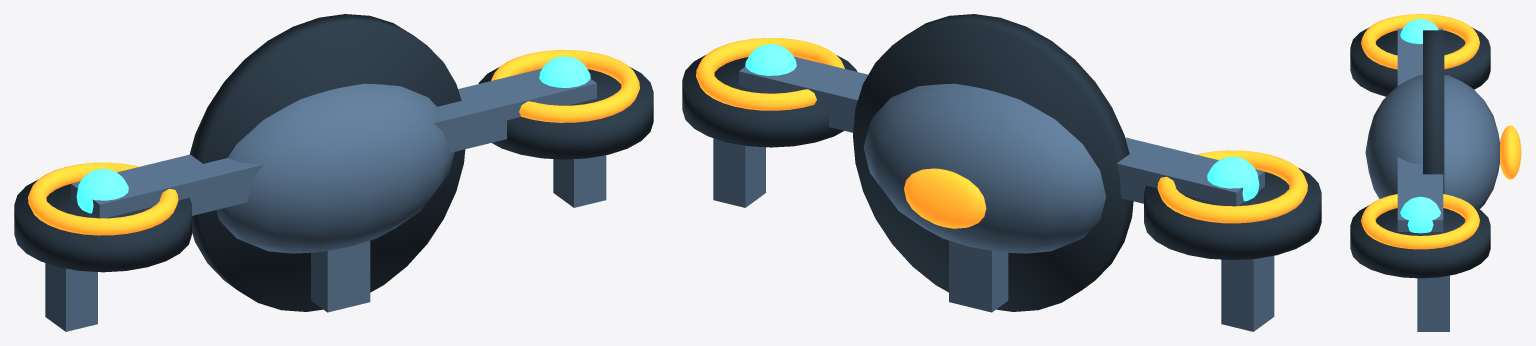
File: hazard_drone.glb
3 views of the same model, side by side, from view 1: azimuth 30°, elevation 25°; view 2: azimuth 150°, elevation 25°; view 3: azimuth 270°, elevation 25° (orthographic). The views are drawn at different scales.
Visible parts, largest first — view 1: optical main housing, equatorial cage, rotor enclosure-1, rotor enclosure1, wing spine-1, wing spine1, rotor neon ring1, rotor neon ring-1, bottom stabilizer, wing tip fins-1, wing tip fins1, rotor core-1 (+1 smaller); view 2: equatorial cage, optical main housing, rotor enclosure-1, rotor enclosure1, wing spine-1, rotor neon ring1, rotor neon ring-1, wing spine1, threat-red-eye, wing tip fins-1, bottom stabilizer, wing tip fins1 (+2 smaller); view 3: optical main housing, rotor enclosure1, rotor enclosure-1, equatorial cage, rotor neon ring1, rotor neon ring-1, wing spine1, wing tip fins1, rotor core1, wing spine-1, threat-red-eye, rotor core-1.
Part boxes in pixels (<box>): optical main housing: <box>216,83,454,253</box>; equatorial cage: <box>189,14,465,311</box>; rotor enclosure-1: <box>14,180,191,272</box>; rotor enclosure1: <box>478,66,653,159</box>; wing spine-1: <box>71,154,263,218</box>; wing spine1: <box>433,68,596,152</box>; rotor neon ring1: <box>491,50,639,122</box>; rotor neon ring-1: <box>28,162,178,235</box>; bottom stabilizer: <box>311,240,370,312</box>; wing tip fins-1: <box>45,263,97,331</box>; wing tip fins1: <box>553,155,606,207</box>; rotor core-1: <box>76,168,128,213</box>; equatorial cage: <box>853,14,1133,311</box>; optical main housing: <box>863,83,1105,253</box>; rotor enclosure-1: <box>1144,168,1321,260</box>; rotor enclosure1: <box>682,55,857,147</box>; wing spine-1: <box>1117,137,1264,206</box>; rotor neon ring1: <box>696,38,844,110</box>; rotor neon ring-1: <box>1157,150,1307,223</box>; wing spine1: <box>739,56,867,132</box>; threat-red-eye: <box>904,168,986,228</box>; wing tip fins-1: <box>1221,255,1274,331</box>; bottom stabilizer: <box>949,240,1008,312</box>; wing tip fins1: <box>713,138,765,207</box>; optical main housing: <box>1365,75,1500,209</box>; rotor enclosure1: <box>1350,205,1490,278</box>; rotor enclosure-1: <box>1350,27,1490,96</box>; equatorial cage: <box>1423,30,1444,193</box>; rotor neon ring1: <box>1361,194,1479,249</box>; rotor neon ring-1: <box>1361,14,1479,69</box>; wing spine1: <box>1397,157,1443,231</box>; wing tip fins1: <box>1417,275,1449,331</box>; rotor core1: <box>1400,196,1440,233</box>; wing spine-1: <box>1397,28,1443,85</box>; threat-red-eye: <box>1500,125,1521,179</box>; rotor core-1: <box>1400,19,1438,44</box>.
Bounding box in the file's own units: 3.44 × 1.5 × 1.05.
